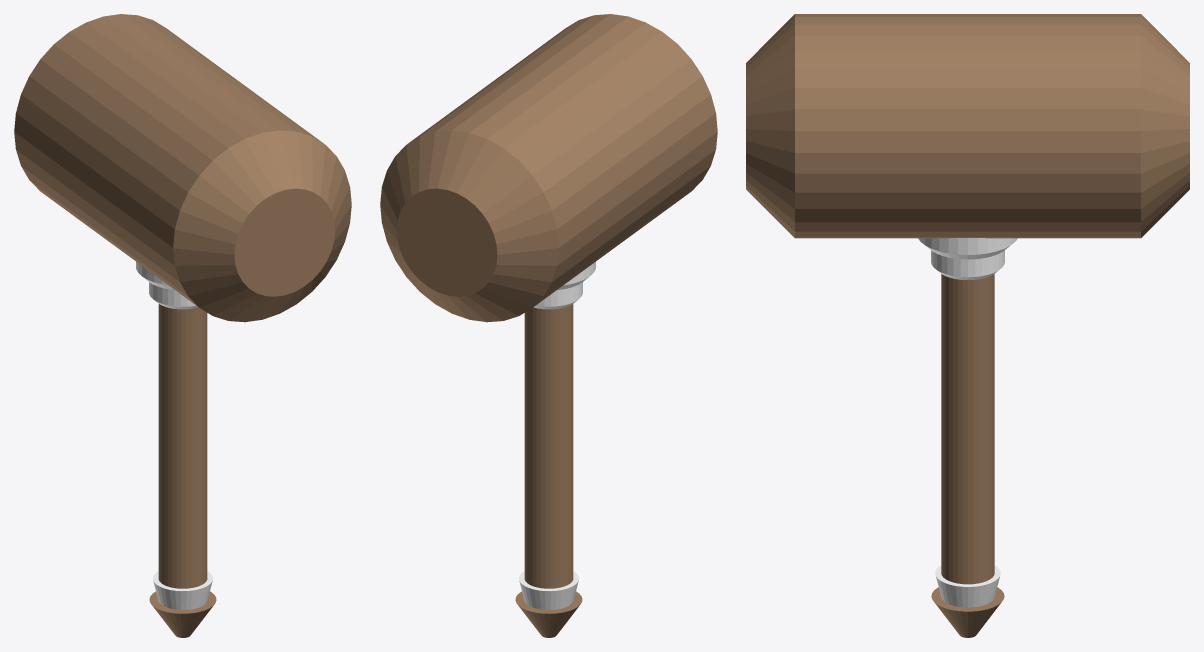
File: WoodenHammer.fbx
3 renders of one model, left to right at view 1: azimuth 30°, elevation 25°; view 2: azimuth 150°, elevation 25°; view 3: azimuth 270°, elevation 25°, orthographic. The views are drawn at different scales.
Visible parts, largest first — view 1: Cube; view 2: Cube; view 3: Cube.
Boxes of the visible parts, x1,y1,x2,y2 form: Cube: [14, 14, 351, 637]; Cube: [380, 14, 717, 637]; Cube: [746, 14, 1189, 637].
Size of the model in its own units: 157 by 469 by 309.
